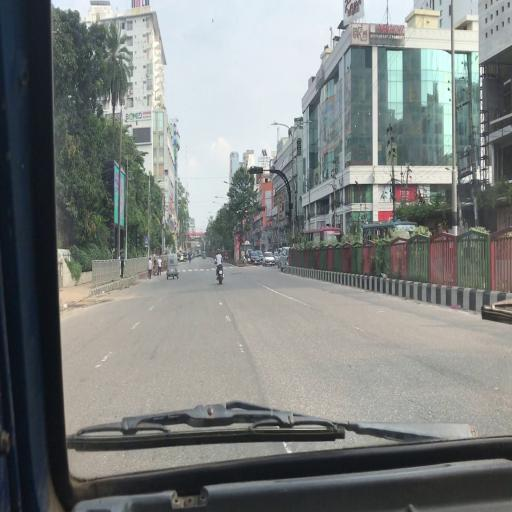bus: (363, 221, 421, 247), (305, 230, 343, 247)
car: (263, 252, 275, 266), (250, 251, 260, 265)
minivan: (280, 247, 291, 272)
motorbike: (216, 260, 225, 284)
rickshaw: (184, 253, 188, 263)
three wheelers (CNG): (167, 254, 180, 279), (203, 251, 207, 259)
